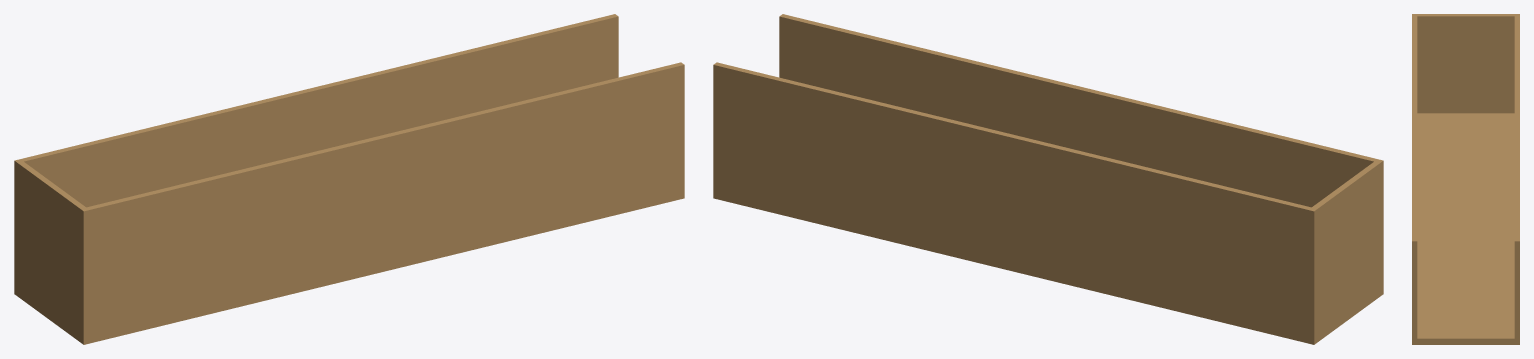
The model's file is open-top-40-lod2.glb.
3 views of the same model, side by side, from view 1: azimuth 30°, elevation 25°; view 2: azimuth 150°, elevation 25°; view 3: azimuth 270°, elevation 25° (orthographic). The views are drawn at different scales.
Parts seen in each view (by area): view 1: side-b, side-a, end, floor; view 2: side-a, side-b, end, floor; view 3: floor, end, side-a, side-b.
Boxes of the visible parts, bbox=[...] form: side-b: bbox=[80, 62, 684, 344]; side-a: bbox=[14, 14, 618, 296]; end: bbox=[14, 159, 89, 344]; floor: bbox=[16, 196, 682, 344]; side-a: bbox=[713, 62, 1315, 344]; side-b: bbox=[779, 14, 1383, 296]; end: bbox=[1308, 159, 1383, 344]; floor: bbox=[713, 193, 1380, 343]; floor: bbox=[1412, 113, 1519, 344]; end: bbox=[1412, 14, 1518, 113]; side-a: bbox=[1514, 14, 1519, 344]; side-b: bbox=[1412, 14, 1417, 344].
Bounding box in the file's own units: 12.19 × 2.59 × 2.44.
